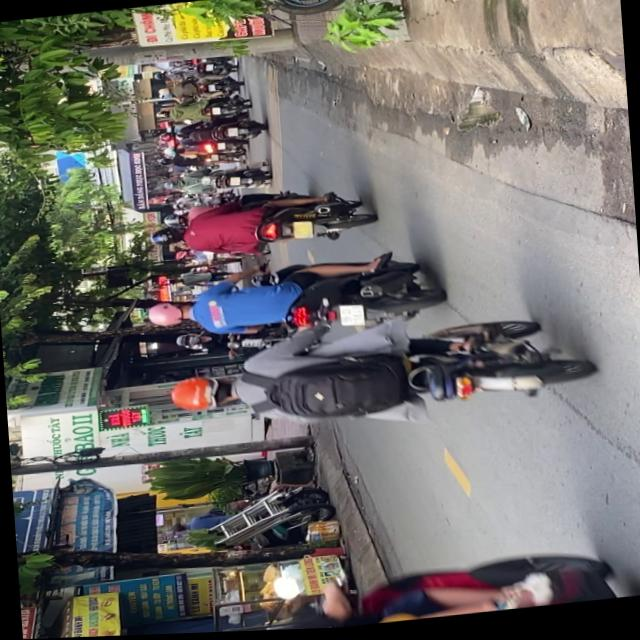helmet: (166, 374, 238, 419), (144, 300, 192, 331), (147, 227, 184, 249)
licenseplate: (162, 304, 596, 452), (127, 540, 640, 636), (140, 249, 442, 354), (144, 185, 373, 266)
nohelmet: (338, 307, 362, 330), (290, 223, 310, 242)
